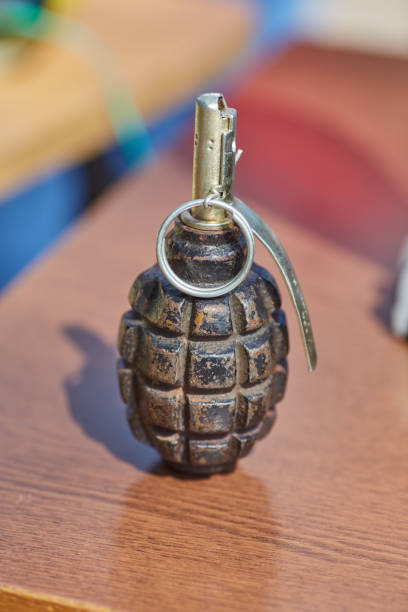e1: (120, 111, 319, 476)
